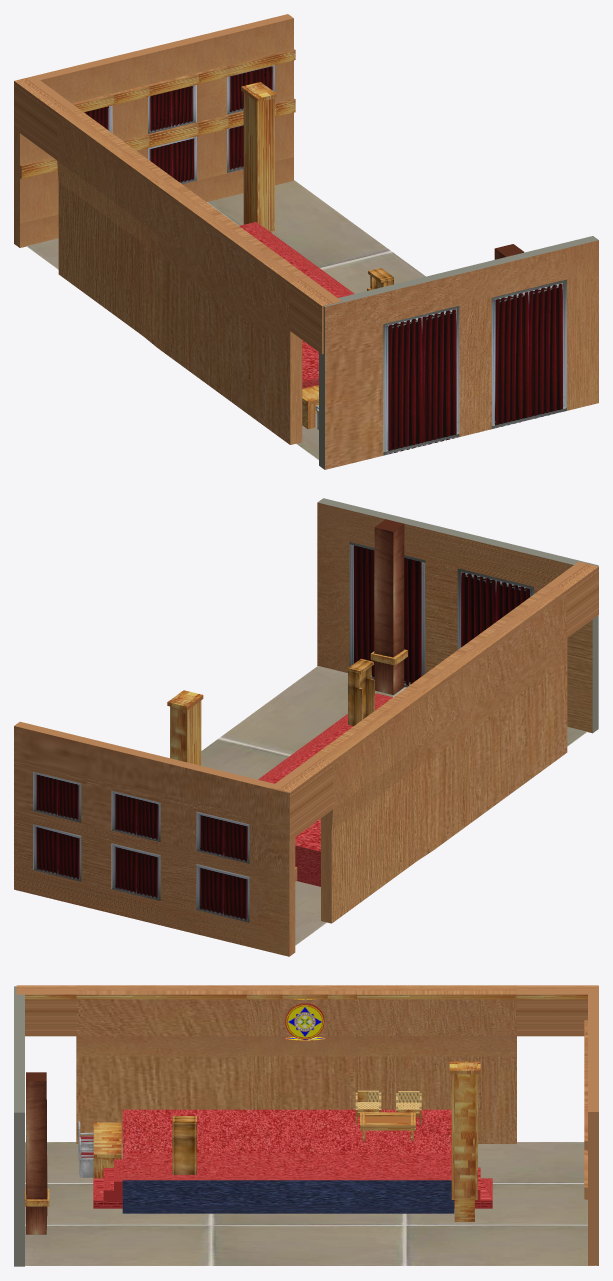
The model's file is detailpanggung.fbx.
3 renders of one model, top to bottom at view 1: azimuth 30°, elevation 25°; view 2: azimuth 150°, elevation 25°; view 3: azimuth 270°, elevation 25°, orthographic. The views are drawn at different scales.
Parts seen in each view (by area): view 1: Cube; view 2: Cube; view 3: Cube.
Part boxes in pixels (left/top/right/bottom): Cube: left=14, top=14, right=598, bottom=469; Cube: left=14, top=498, right=598, bottom=956; Cube: left=14, top=985, right=598, bottom=1266.
Bounding box in the file's own units: 843 × 477 × 1639.
